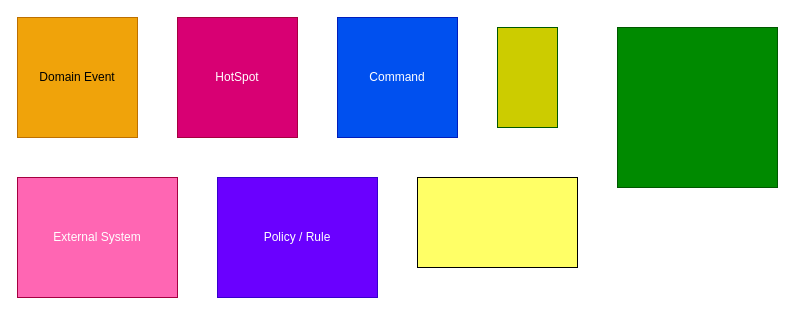
Image size: 795x315. Some labels were removed from this diagram. Each missing label, with the centre of its shape:
"Actor" belongs at pixel 527 77.
"Aggregate" belongs at pixel 497 222.
"Read Model" belongs at pixel 697 107.
